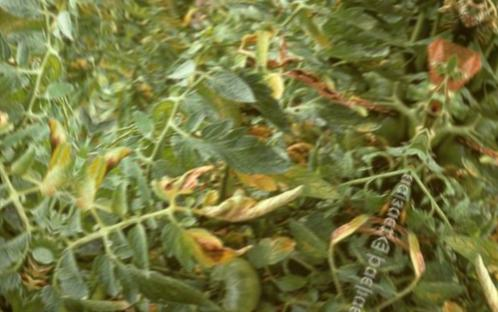Tomato Early blight leaf: (192, 150, 304, 249), (192, 118, 294, 189), (153, 212, 251, 281), (67, 128, 136, 217), (111, 257, 221, 312), (151, 142, 216, 213), (53, 276, 133, 312), (202, 67, 262, 108)
